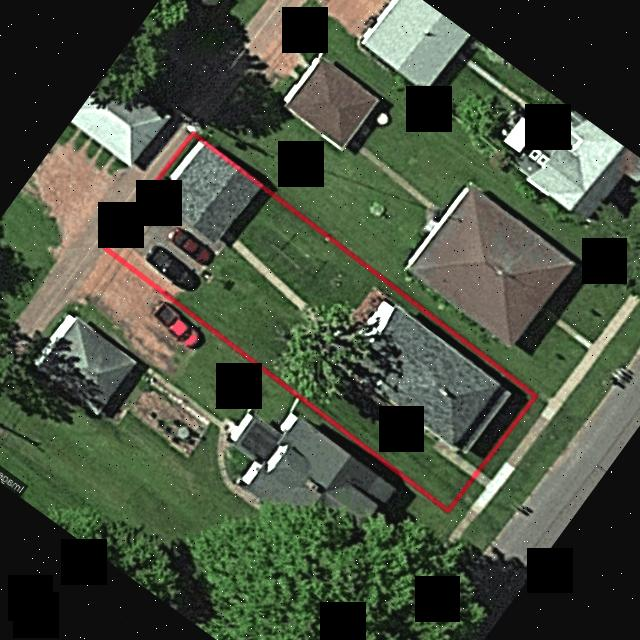Driveway: (231, 239, 307, 309), (433, 437, 475, 474), (400, 414, 434, 436)
Extra Driveway: (474, 470, 491, 485)
Extra Lawn: (483, 393, 547, 477), (452, 481, 483, 515)
Extra Sidewalk: (451, 404, 556, 536)
House: (325, 285, 513, 453), (155, 141, 257, 243)
